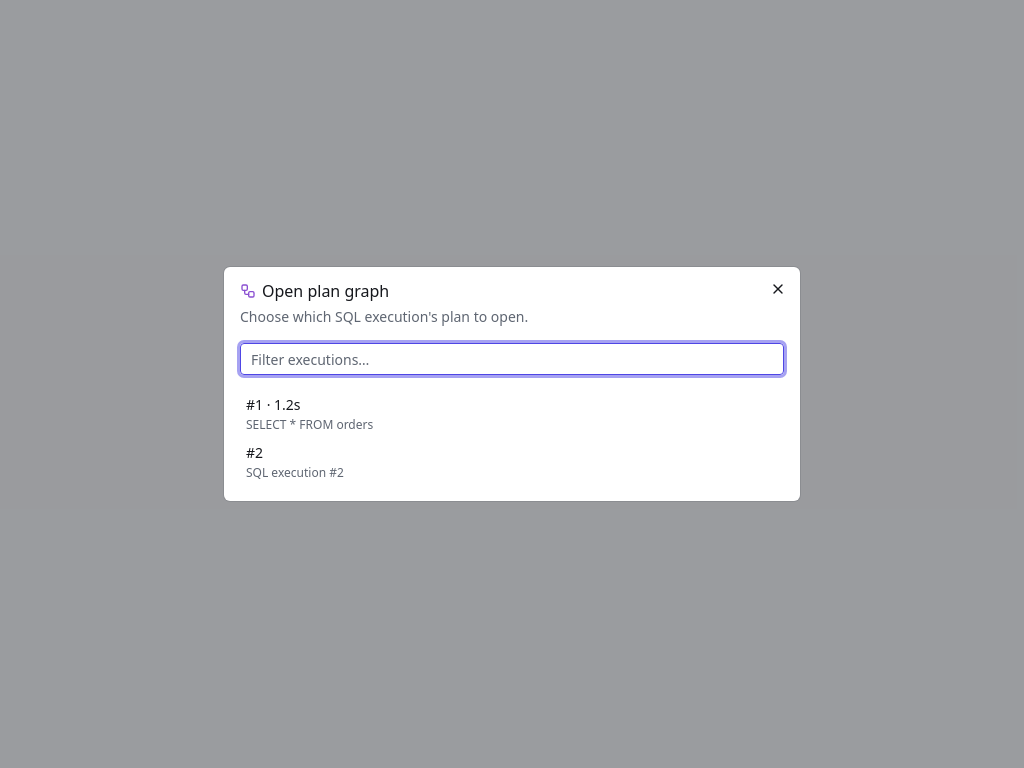
Test: typing in the filter narrows rows to matches on label or secondary
The width and height of the screenshot is (1024, 768).
Type "orders" into the field with placeholder "Filter executions…" at [512, 359], box x1=240 y1=343 x2=784 y2=375
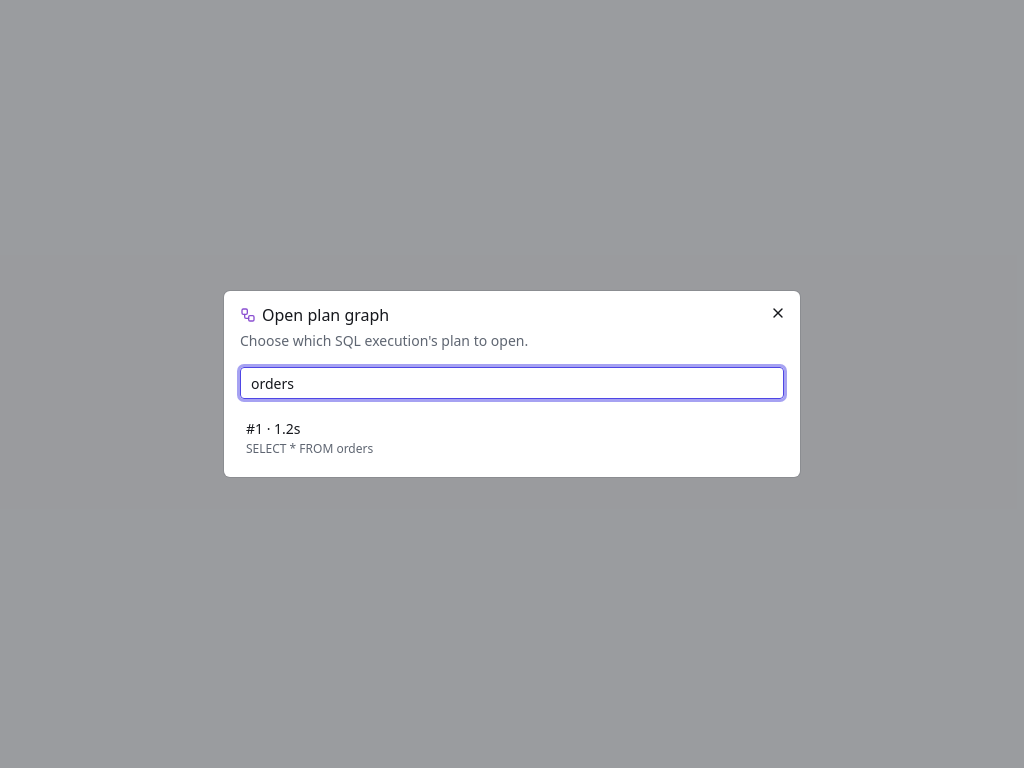
Expected: the text "SELECT * FROM orders" is shown, x1=246 y1=440 x2=373 y2=457
Expected: the button "SQL execution #2" is gone
